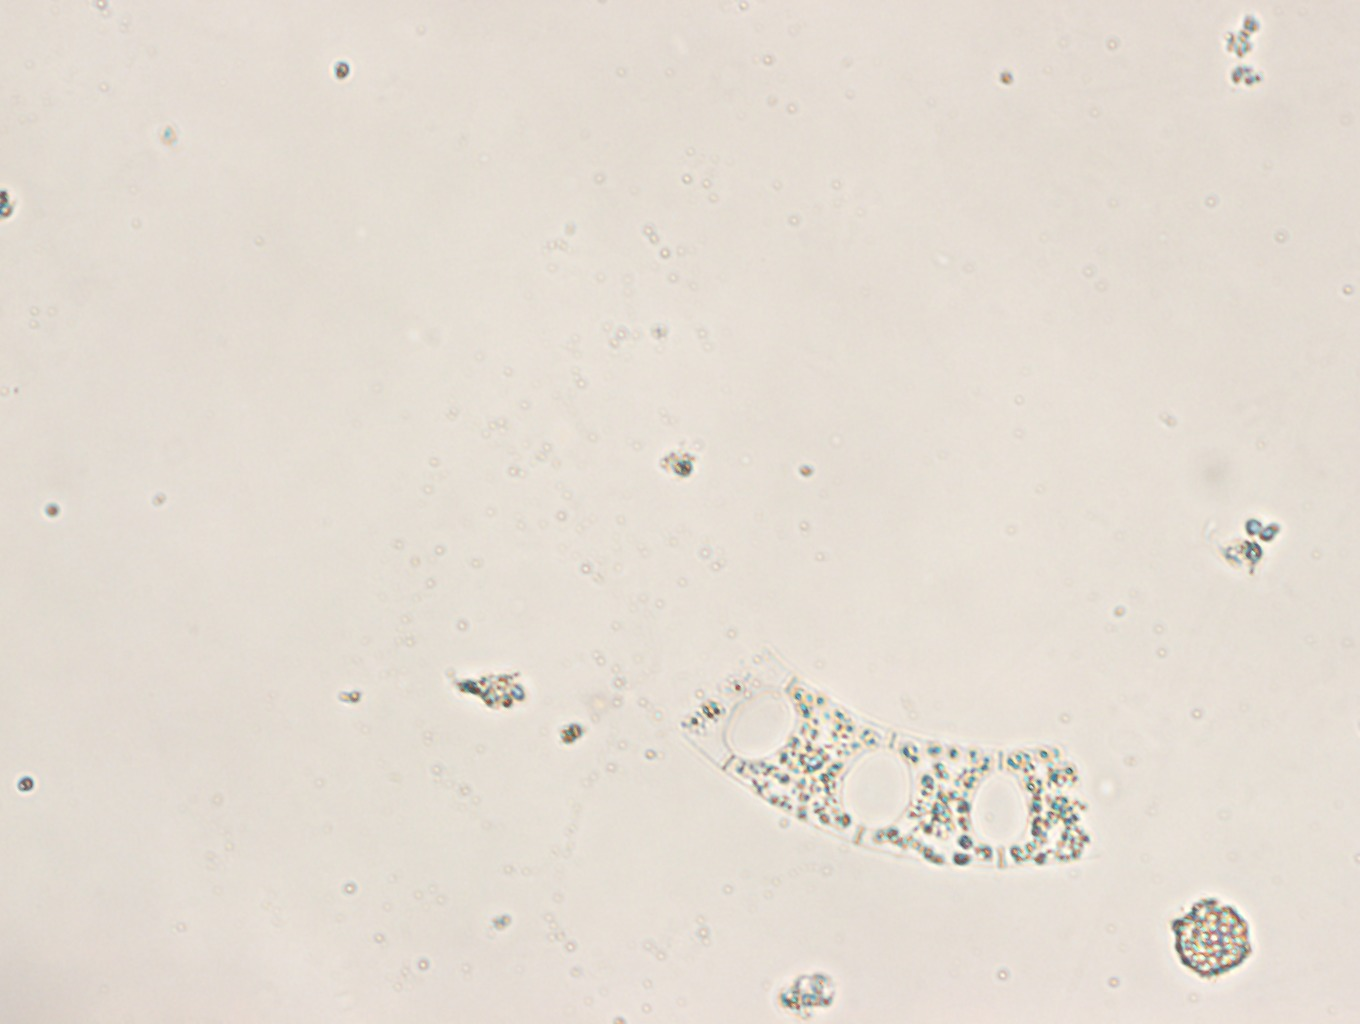eucampia: (669, 634, 1104, 876)
